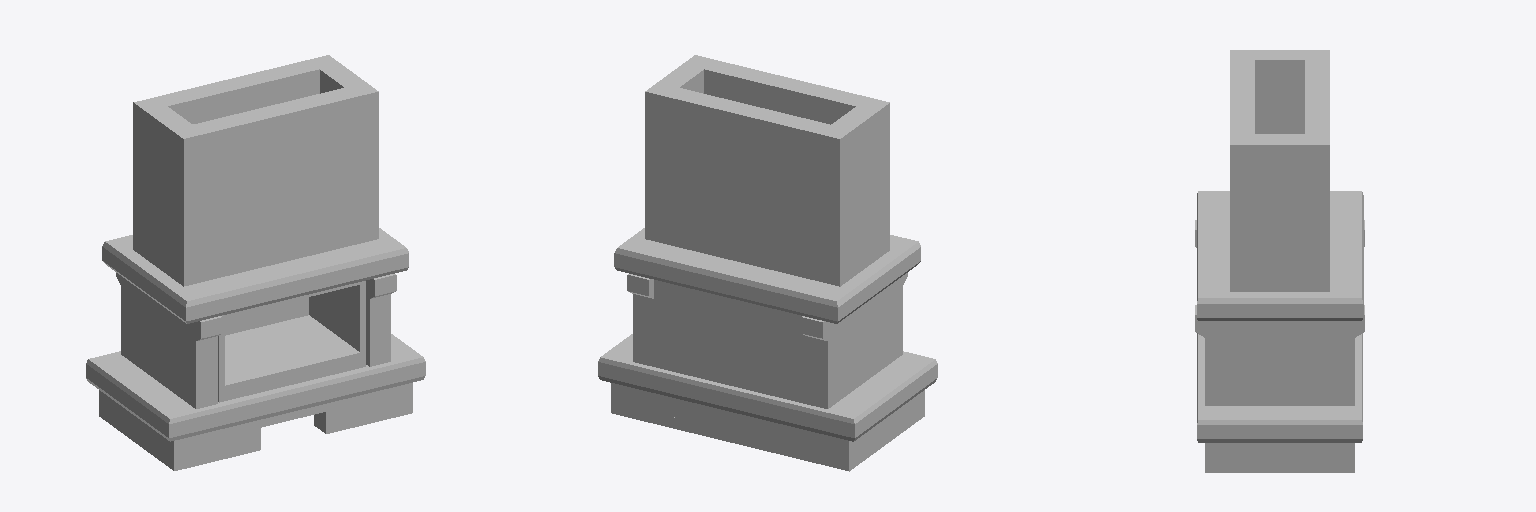
Rendered from fireplace.obj.
3 renders of one model, left to right at view 1: azimuth 30°, elevation 25°; view 2: azimuth 150°, elevation 25°; view 3: azimuth 270°, elevation 25°, orthographic.
Parts seen in each view (by area): view 1: pCube119, pCube46, pCube118, pCube108, pCube197, pCube198, pCube204, pCube201, pCube200, pCube205, pCube199, pCube206 (+16 smaller); view 2: pCube118, pCube46, pCube108, pCube207, pCube204, pCube206, pCube199, pCube205, pCube200, pCube203, pCube198, pCube197 (+17 smaller); view 3: pCube118, pCube46, pCube109, pCube202, pCube201, pCube203, pCube197, pCube207, pCube61, pCube62, pCube63, pCube95 (+28 smaller).
Boxes of the visible parts, x1=… form: pCube119: x1=218, y1=281, x2=365, y2=402; pCube46: x1=86, y1=334, x2=425, y2=441; pCube118: x1=102, y1=228, x2=408, y2=323; pCube108: x1=116, y1=273, x2=222, y2=340; pCube197: x1=159, y1=116, x2=204, y2=149; pCube198: x1=193, y1=114, x2=248, y2=144; pCube204: x1=243, y1=66, x2=297, y2=96; pCube201: x1=324, y1=82, x2=378, y2=112; pCube200: x1=280, y1=93, x2=334, y2=123; pCube205: x1=199, y1=76, x2=253, y2=106; pCube199: x1=237, y1=104, x2=291, y2=133; pCube206: x1=156, y1=87, x2=210, y2=114; pCube118: x1=614, y1=228, x2=920, y2=323; pCube46: x1=598, y1=334, x2=937, y2=441; pCube108: x1=801, y1=273, x2=907, y2=340; pCube207: x1=819, y1=116, x2=864, y2=149; pCube204: x1=688, y1=93, x2=743, y2=123; pCube206: x1=775, y1=114, x2=829, y2=144; pCube199: x1=769, y1=76, x2=824, y2=106; pCube205: x1=732, y1=104, x2=786, y2=134; pCube200: x1=726, y1=66, x2=780, y2=95; pCube203: x1=645, y1=82, x2=699, y2=112; pCube198: x1=813, y1=87, x2=867, y2=114; pCube197: x1=844, y1=97, x2=889, y2=131; pCube118: x1=1197, y1=191, x2=1363, y2=320; pCube46: x1=1197, y1=333, x2=1362, y2=442; pCube109: x1=1195, y1=305, x2=1364, y2=337; pCube202: x1=1255, y1=134, x2=1304, y2=155; pCube201: x1=1230, y1=124, x2=1254, y2=155; pCube203: x1=1305, y1=124, x2=1329, y2=155; pCube197: x1=1230, y1=50, x2=1279, y2=70; pCube207: x1=1280, y1=50, x2=1329, y2=70; pCube61: x1=1205, y1=383, x2=1254, y2=394; pCube62: x1=1255, y1=383, x2=1304, y2=394; pCube63: x1=1305, y1=383, x2=1354, y2=394; pCube95: x1=1280, y1=349, x2=1329, y2=360.
Size of the model in its own units: 11.84 by 14 by 6.81.